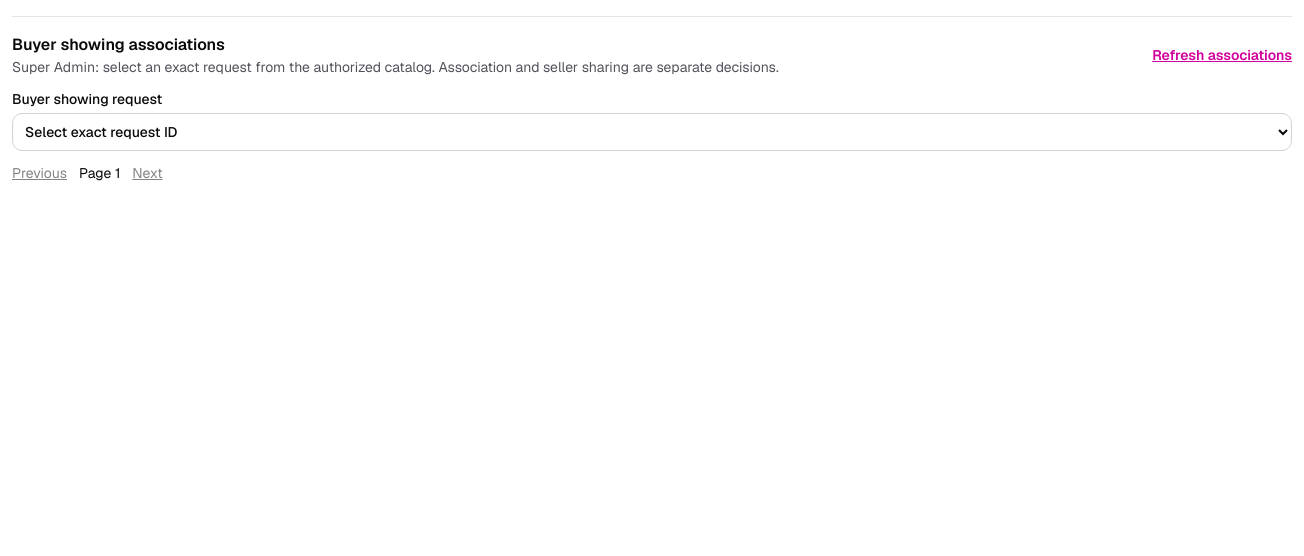
it: displays backend conflict and historical audit without guessing a replacement revision
This screenshot has width=1304, height=556.
Step 1. Select "request-1 · listing listing-1 · completed" in the dropdown labelled "Buyer showing request" → (652,132), box [12,113,1292,151]
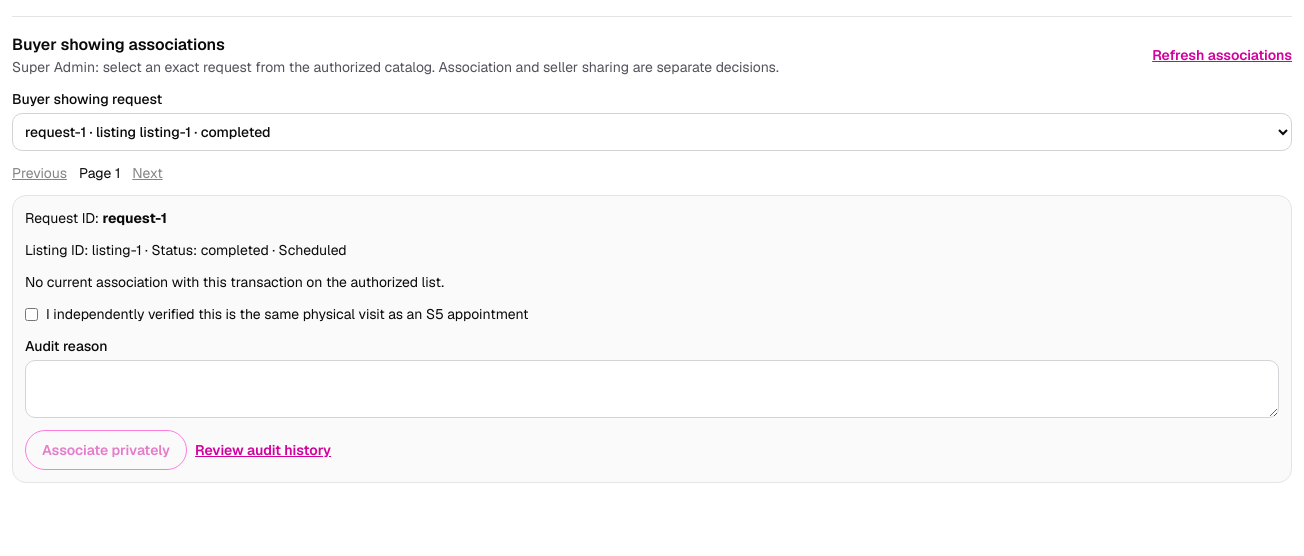
Step 2. Type "Try exact request" into the text box labelled "Audit reason" → (652,389), box [25,360,1279,418]
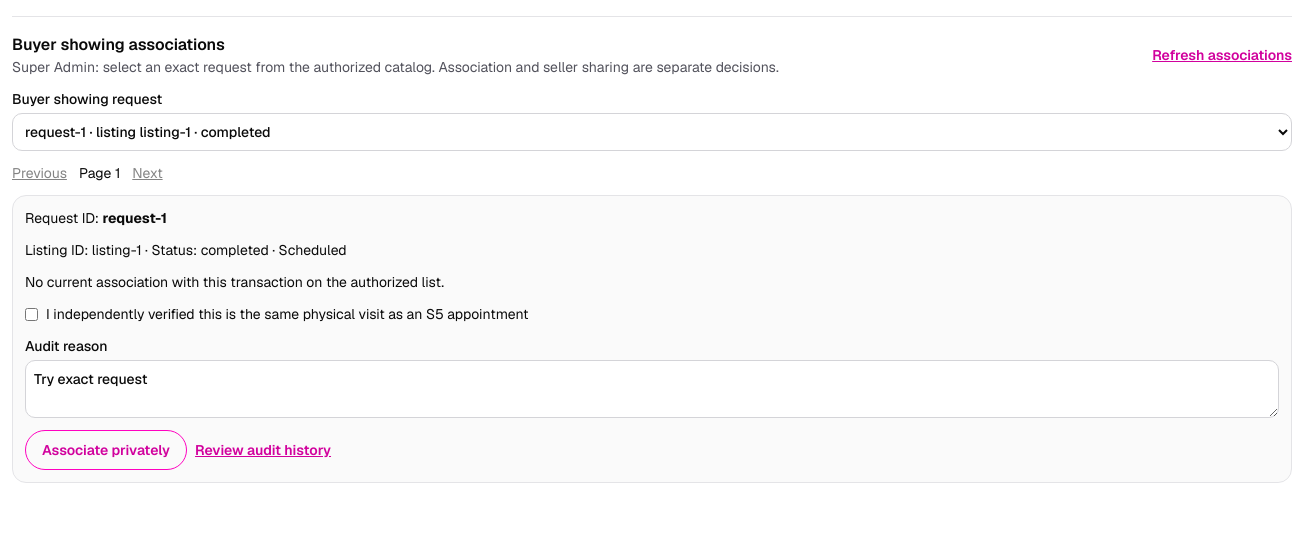
Step 3. Click the button "Associate privately" → (106,450), box [25,430,187,470]
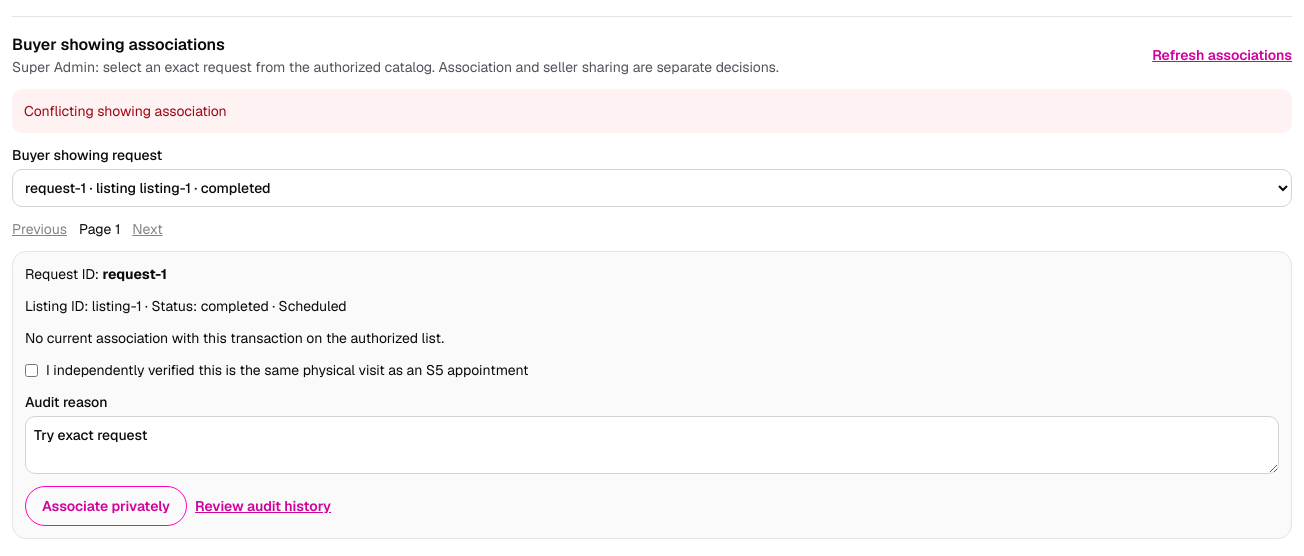
Now the message reads "Conflicting showing association", box [24,102,227,120]
Step 4. Click the button "Review audit history" → (263,506), box [195,486,331,526]
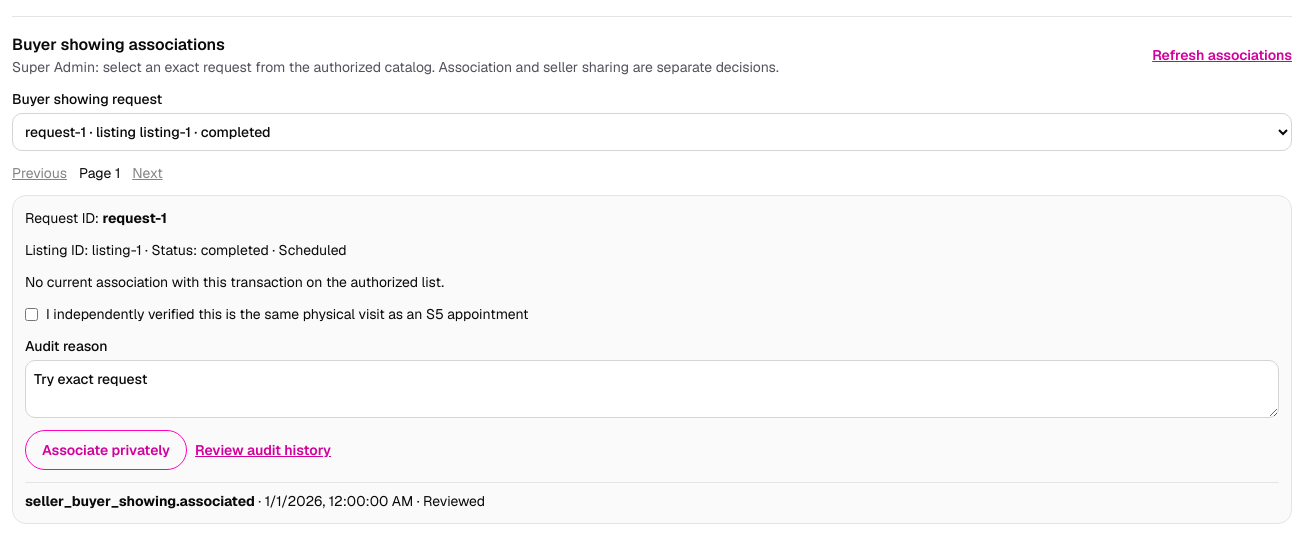
Now the text "seller_buyer_showing.associated" is shown, box [25,492,255,510]
